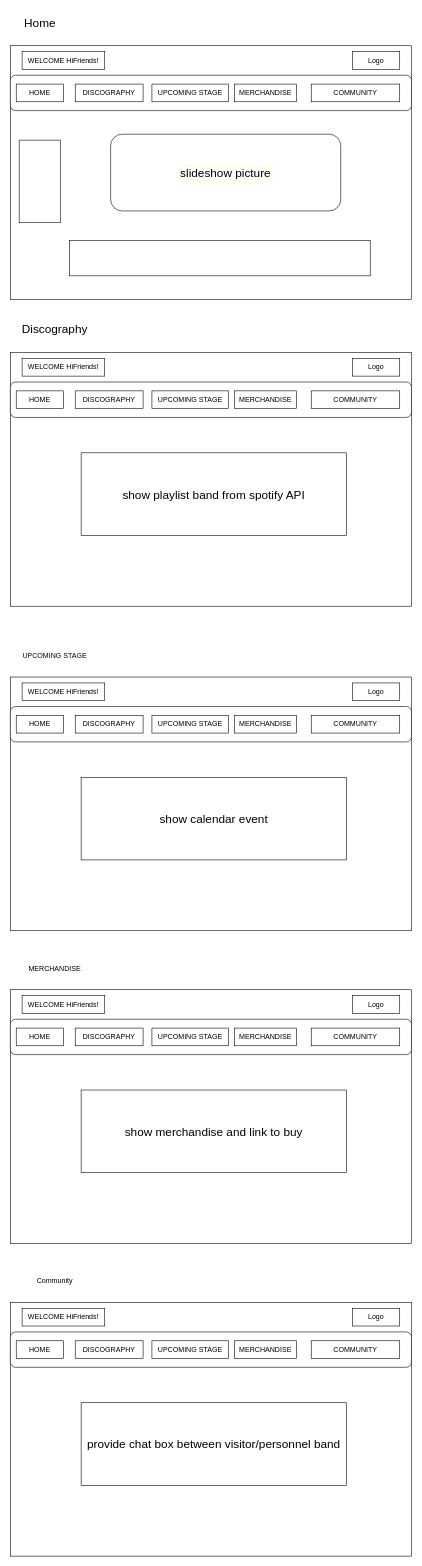
Image size: 422x1566. Some labels were removed from this diagram. Each missing label, with the centre of its shape:
"Profile singkat" goes at (x=219, y=258).
"tweet from twitter API" goes at (x=39, y=181).
